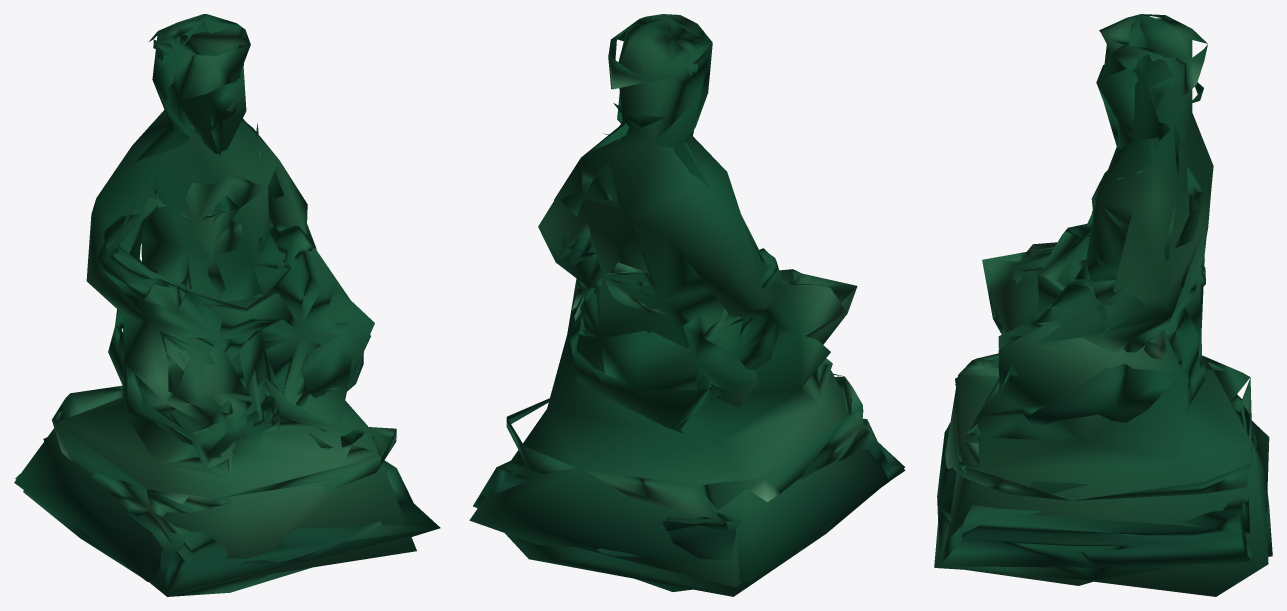
File: gen3d-jade-statue-lod1.glb
The picture shows the model from 3 angles, left to right: view 1: azimuth 30°, elevation 25°; view 2: azimuth 150°, elevation 25°; view 3: azimuth 270°, elevation 25°; orthographic projection. The views are drawn at different scales.
Parts seen in each view (by area): view 1: part_0; view 2: part_0; view 3: part_0.
Part boxes in pixels (x1=…): part_0: x1=14, y1=14, x2=440, y2=596; part_0: x1=469, y1=14, x2=905, y2=596; part_0: x1=934, y1=14, x2=1272, y2=596.
Bounding box in the file's own units: 0.6006 × 1 × 0.602.
